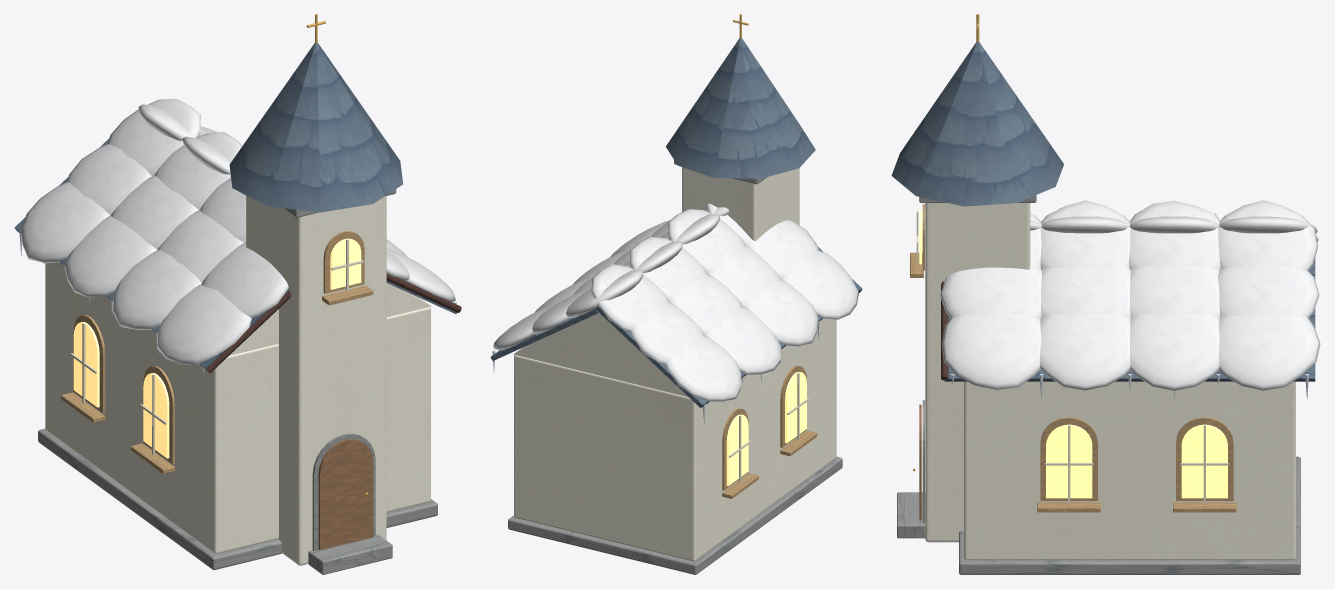
File: church.glb
3 renders of one model, left to right at view 1: azimuth 30°, elevation 25°; view 2: azimuth 150°, elevation 25°; view 3: azimuth 270°, elevation 25°, orthographic. The views are drawn at different scales.
Visible parts, largest first — view 1: church; view 2: church; view 3: church.
Boxes of the visible parts, x1,y1,x2,y2 form: church: (14, 14, 461, 574); church: (490, 14, 862, 574); church: (891, 14, 1320, 574).
Bounding box in the file's own units: 5.74 × 10.12 × 7.75.
3 materials, 3 textured.
